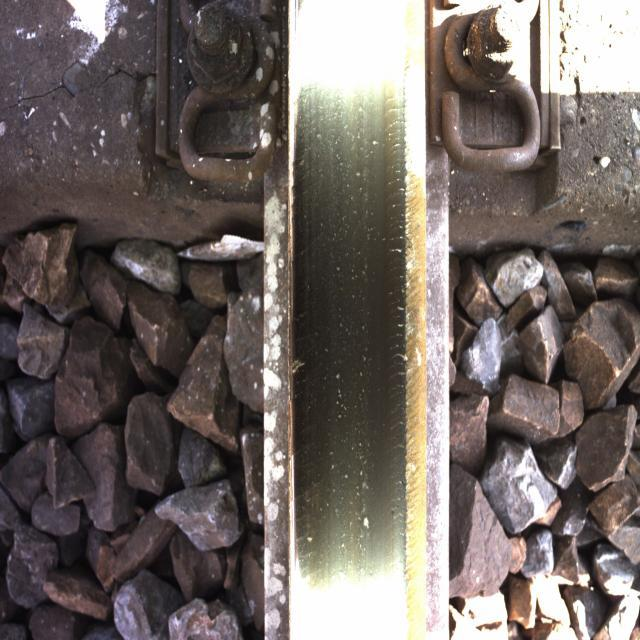normal: (292, 65, 408, 614)
